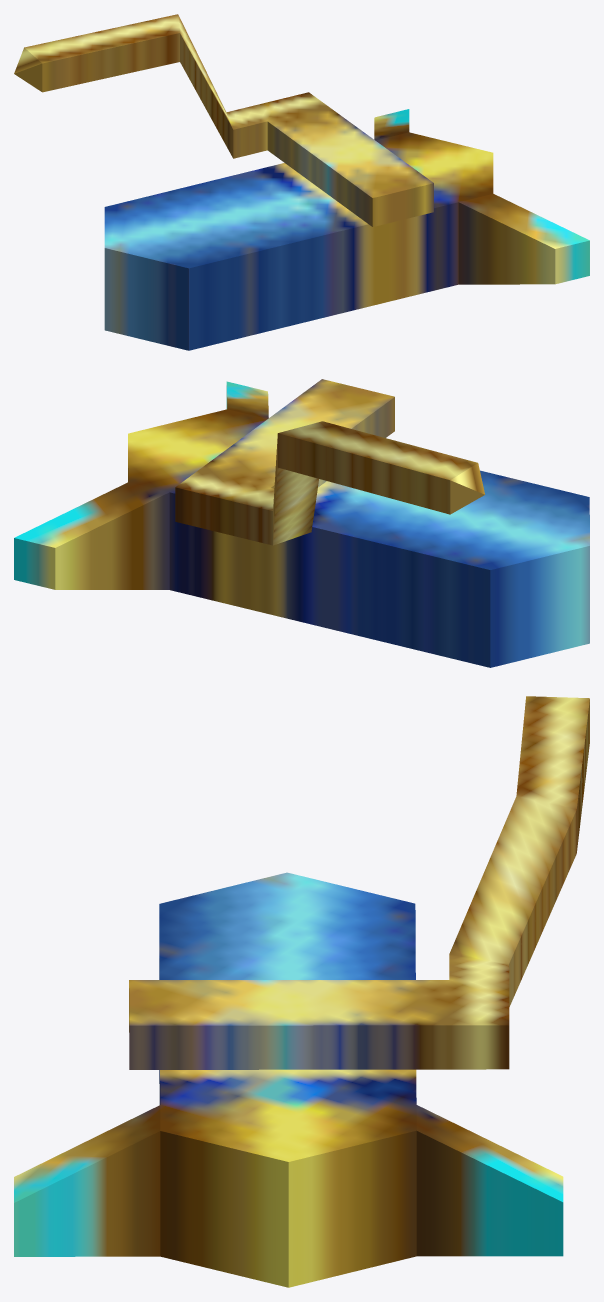
3 renders of one model, top to bottom at view 1: azimuth 30°, elevation 25°; view 2: azimuth 150°, elevation 25°; view 3: azimuth 270°, elevation 25°, orthographic. The views are drawn at different scales.
Parts seen in each view (by area): view 1: aw222; view 2: aw222; view 3: aw222.
Part boxes in pixels (x1,y1,x2,y2): aw222: (14,14,589,350); aw222: (14,379,589,667); aw222: (14,696,589,1287).
Size of the model in its own units: 15 by 7.43 by 12.36.
Materials: 1 (1 with a texture image).
